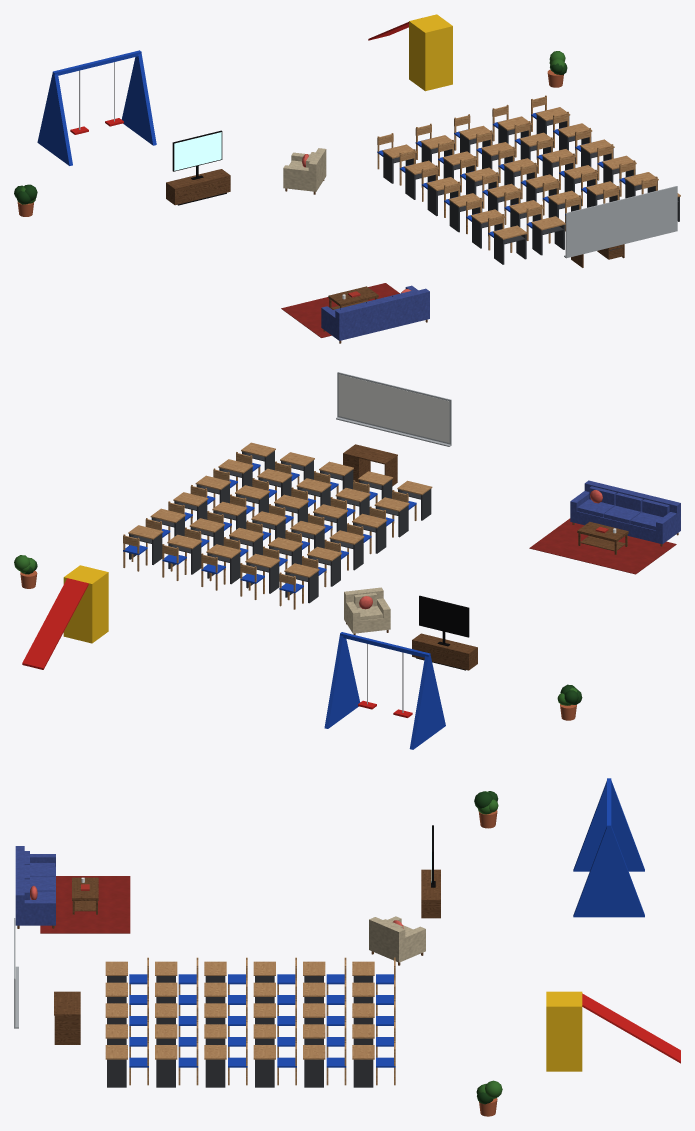
Rendered from i_kindergarten.gltf.
The picture shows the model from 3 angles, top to bottom: view 1: azimuth 30°, elevation 25°; view 2: azimuth 150°, elevation 25°; view 3: azimuth 270°, elevation 25°; orthographic projection. The views are drawn at different scales.
Visible parts, largest first — view 1: I_kindergarten; view 2: I_kindergarten; view 3: I_kindergarten.
Part boxes in pixels (bbox=[...]): I_kindergarten: bbox=[14, 14, 680, 343]; I_kindergarten: bbox=[14, 372, 680, 749]; I_kindergarten: bbox=[14, 778, 680, 1116].
Bounding box in the file's own units: 15.81 × 2.25 × 14.87.
21 materials, 6 textured.
